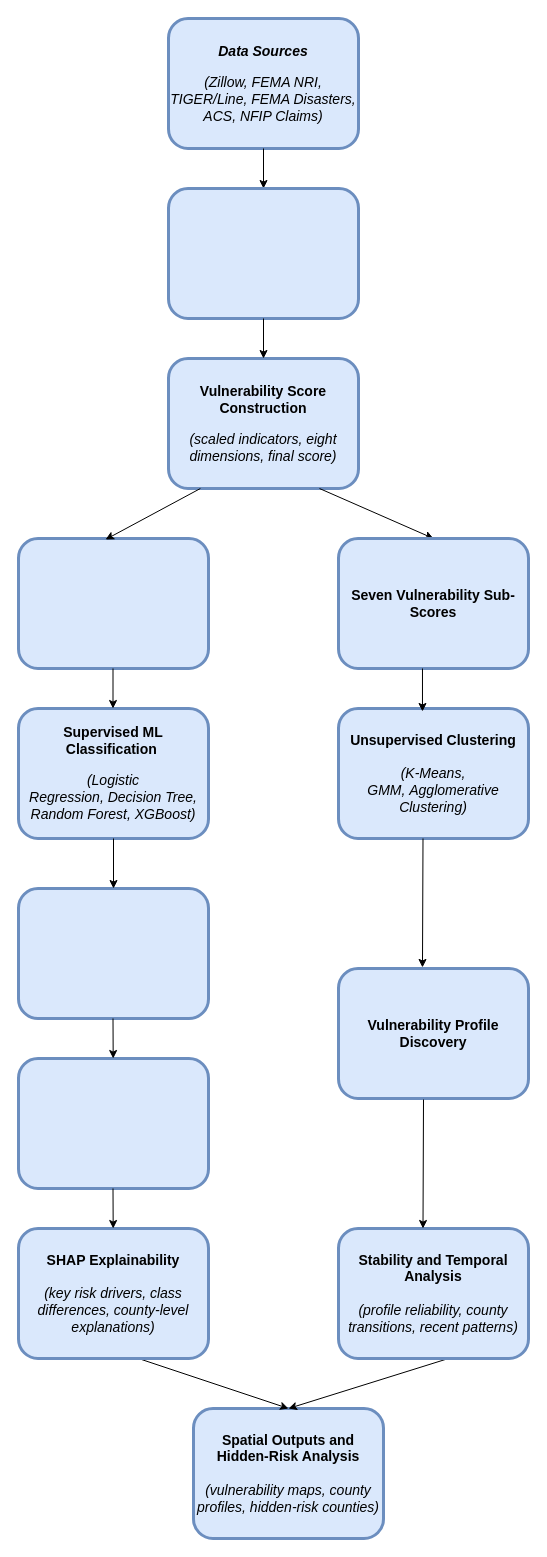
The diagram is 547 pixels wide and 1557 high, and some of its shapes have lost their labels. Here are the shapes that lost their labels. From the top down, the box of each, then its label:
(166, 186, 360, 320): Integrated County-Year Dataset (67 counties, 2011–2025)
(16, 536, 210, 670): Low / Medium / High Vulnerability Classes
(16, 886, 210, 1020): Feature Group Comparison (housing-only, added risk factors, full model)
(16, 1056, 210, 1190): Statistical Testing (temporal folds, performance gains, significance)
